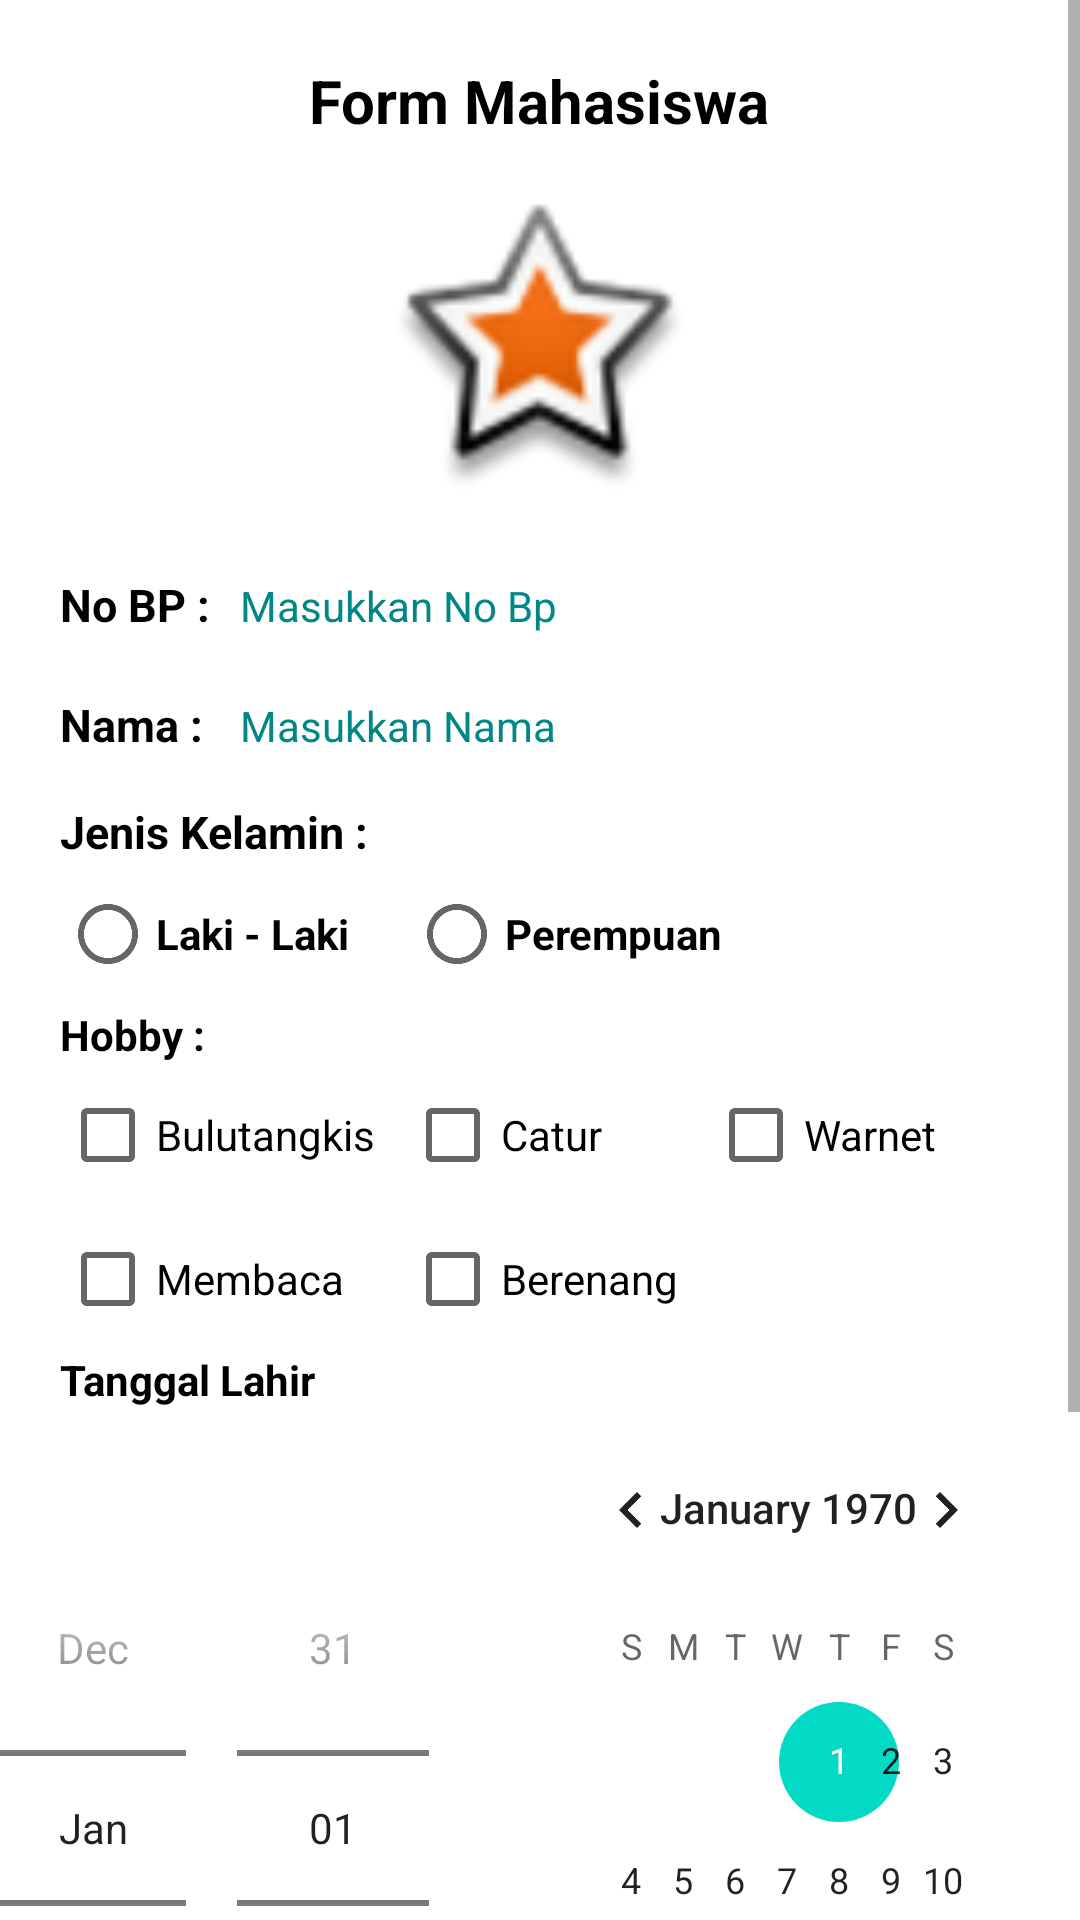

Screen size 1080x1920. Icon name, then its center in pixels as point (x, y):
star on: point (540, 341)
